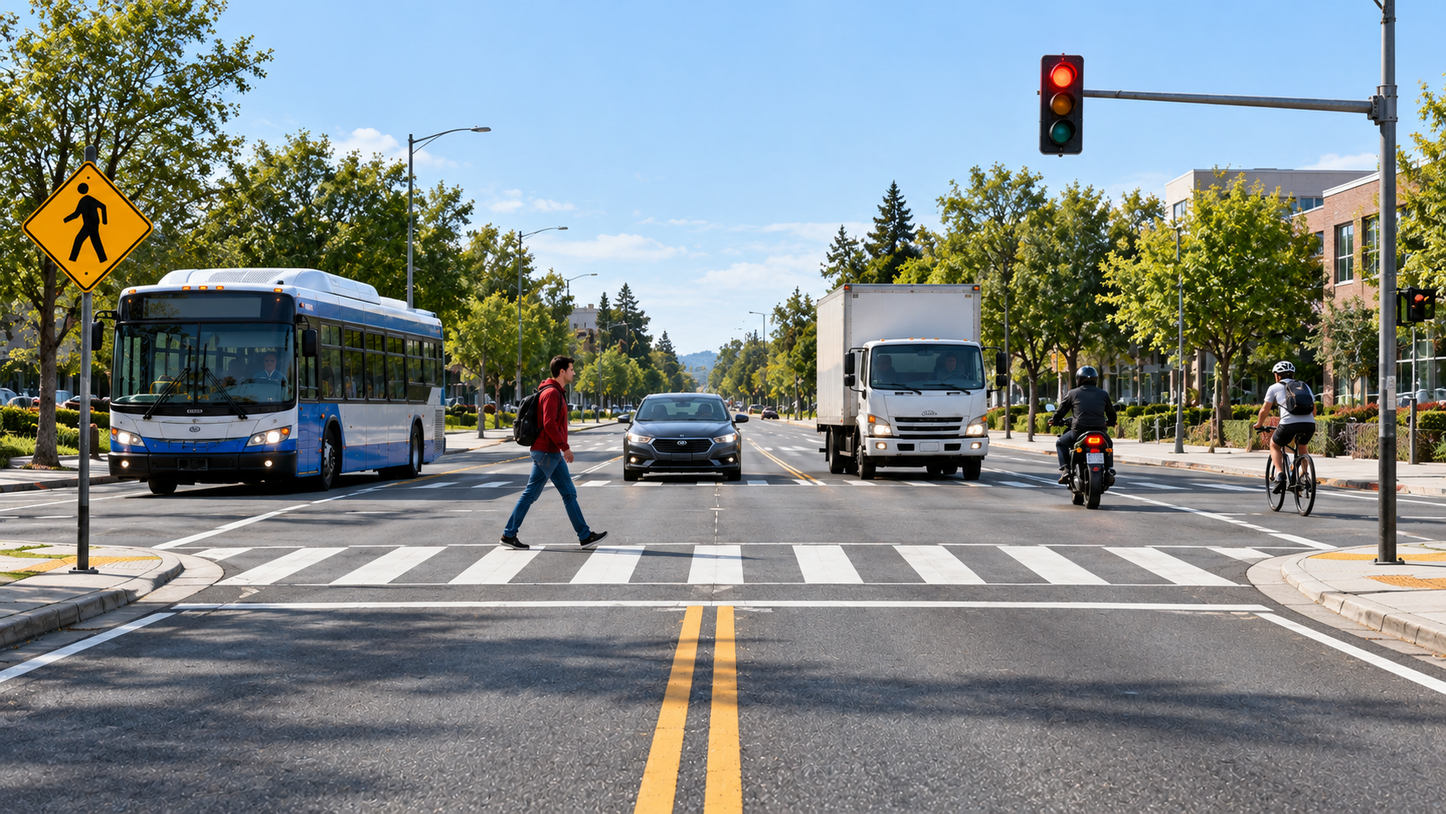bicycle: (1246, 411, 1332, 518)
bus: (80, 262, 448, 499)
car: (618, 386, 764, 483)
crossing_warning_sign: (22, 160, 158, 299)
motorcycle: (1034, 407, 1130, 520)
person: (492, 352, 619, 552), (1249, 348, 1328, 498), (1037, 336, 1128, 460)
stop_sign: (1322, 185, 1427, 285)
traffic_light: (1034, 52, 1088, 172)
truck: (814, 278, 1001, 490)
zebra_crossing: (0, 510, 1445, 597)
